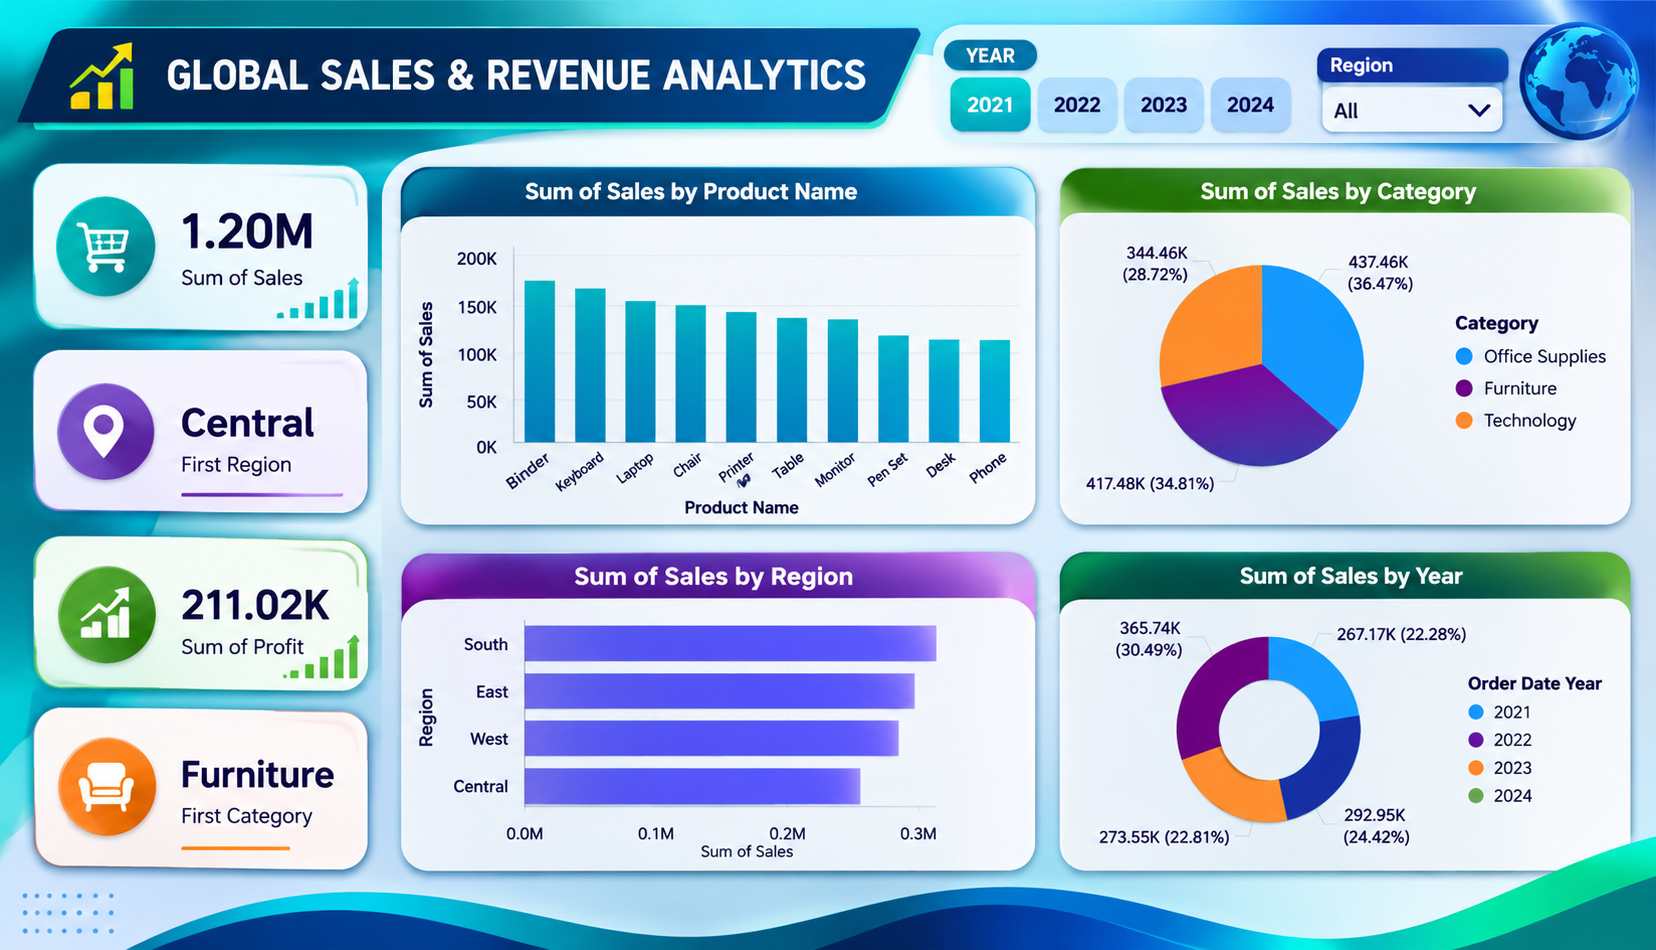

What the dashboard file says about the page in this screenshot:
{"tool":"powerbi","page":{"name":"Page 1","canvas":[1280,720],"ordinal":0},"visuals":[{"type":"donutChart","fields":{"Category":["SalesData.Order Date.Variation.Date Hierarchy.Year","SalesData.Order Date.Variation.Date Hierarchy.Quarter","SalesData.Order Date.Variation.Date Hierarchy.Month","SalesData.Order Date.Variation.Date Hierarchy.Day"],"Y":["Sum(SalesData.Sales)"]},"box":[809.6,418.5,433.6,270.3],"z":0},{"type":"clusteredColumnChart","fields":{"Category":["SalesData.Product Name"],"Y":["Sum(SalesData.Sales)"]},"box":[303.3,112.5,435,271.7],"z":1000},{"type":"pieChart","fields":{"Category":["SalesData.Category"],"Y":["Sum(SalesData.Sales)"]},"box":[809.6,112.5,434,271.7],"z":2000},{"type":"clusteredBarChart","fields":{"Category":["SalesData.Region"],"Y":["Sum(SalesData.Sales)"]},"box":[304.6,418.5,433.6,270.3],"z":3000},{"type":"cardVisual","fields":{"Data":["Sum(SalesData.Sales)"]},"box":[1.4,85.1,262.1,146.8],"z":4000},{"type":"cardVisual","fields":{"Data":["Min(SalesData.Region)"]},"box":[1.4,248.4,260.7,146.8],"z":5000},{"type":"cardVisual","fields":{"Data":["Sum(SalesData.Profit)"]},"box":[2.7,404.8,260.7,149.6],"z":6000},{"type":"cardVisual","fields":{"Data":["Min(SalesData.Category)"]},"box":[4.1,565.4,259.3,145.5],"z":7000},{"type":"textbox","box":[13.7,20.6,594.2,43.9],"z":8000},{"type":"slicer","fields":{"Values":["SalesData.Order Date.Variation.Date Hierarchy.Year"]},"box":[657.3,9.6,270.3,91.9],"z":9000},{"type":"slicer","fields":{"Values":["SalesData.Region"]},"box":[950.9,9.6,270.3,91.9],"z":10000}]}

Visuals, with their boxes in screenshot pixels (x1, y1, x2, y2), scaled from the page's 1280x720 canvas onto the 1656x950 screenshot:
donutChart - SalesData.Order Date.Variation.Date Hierarchy.Year x SalesData.Order Date.Variation.Date Hierarchy.Quarter: [x1=1047, y1=552, x2=1608, y2=909]
clusteredColumnChart - SalesData.Product Name x Sum(SalesData.Sales): [x1=392, y1=148, x2=955, y2=507]
pieChart - SalesData.Category x Sum(SalesData.Sales): [x1=1047, y1=148, x2=1609, y2=507]
clusteredBarChart - SalesData.Region x Sum(SalesData.Sales): [x1=394, y1=552, x2=955, y2=909]
cardVisual - Sum(SalesData.Sales): [x1=2, y1=112, x2=341, y2=306]
cardVisual - Min(SalesData.Region): [x1=2, y1=328, x2=339, y2=521]
cardVisual - Sum(SalesData.Profit): [x1=3, y1=534, x2=341, y2=732]
cardVisual - Min(SalesData.Category): [x1=5, y1=746, x2=341, y2=938]
textbox: [x1=18, y1=27, x2=786, y2=85]
slicer - SalesData.Order Date.Variation.Date Hierarchy.Year: [x1=850, y1=13, x2=1200, y2=134]
slicer - SalesData.Region: [x1=1230, y1=13, x2=1580, y2=134]
